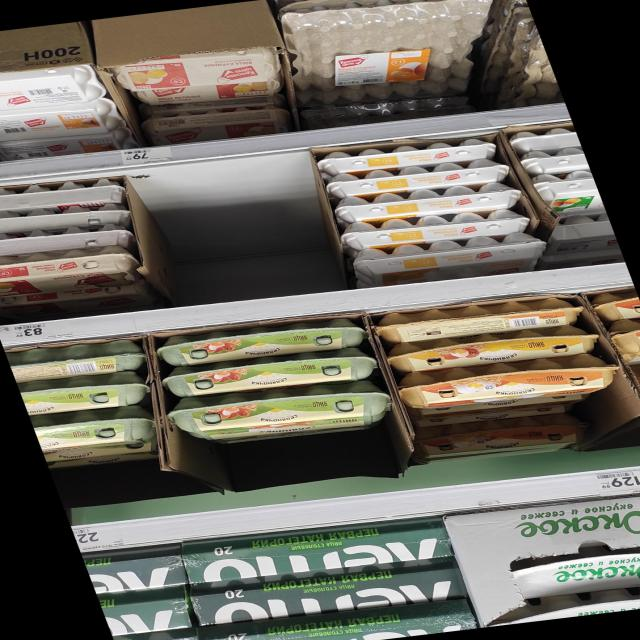organic waste: (165, 372, 403, 452), (392, 350, 625, 414), (157, 344, 384, 405), (343, 229, 554, 292), (151, 313, 369, 372), (381, 321, 603, 378), (328, 199, 538, 255), (321, 175, 528, 229), (311, 150, 519, 203), (302, 129, 508, 180), (107, 42, 286, 97), (0, 242, 148, 303), (501, 540, 639, 604), (31, 403, 166, 455), (17, 368, 153, 419), (0, 59, 110, 120), (0, 96, 128, 148), (7, 340, 136, 384), (543, 212, 622, 263), (532, 168, 606, 219), (516, 146, 590, 178), (509, 125, 581, 155), (600, 318, 640, 369), (586, 288, 640, 324), (618, 364, 639, 408)
